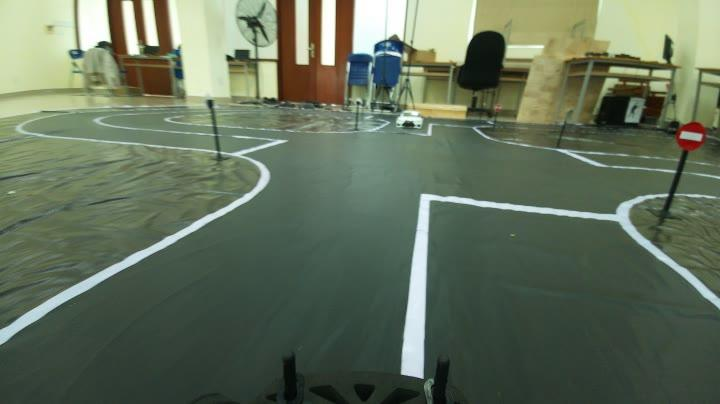no_entry: (668, 113, 710, 156)
